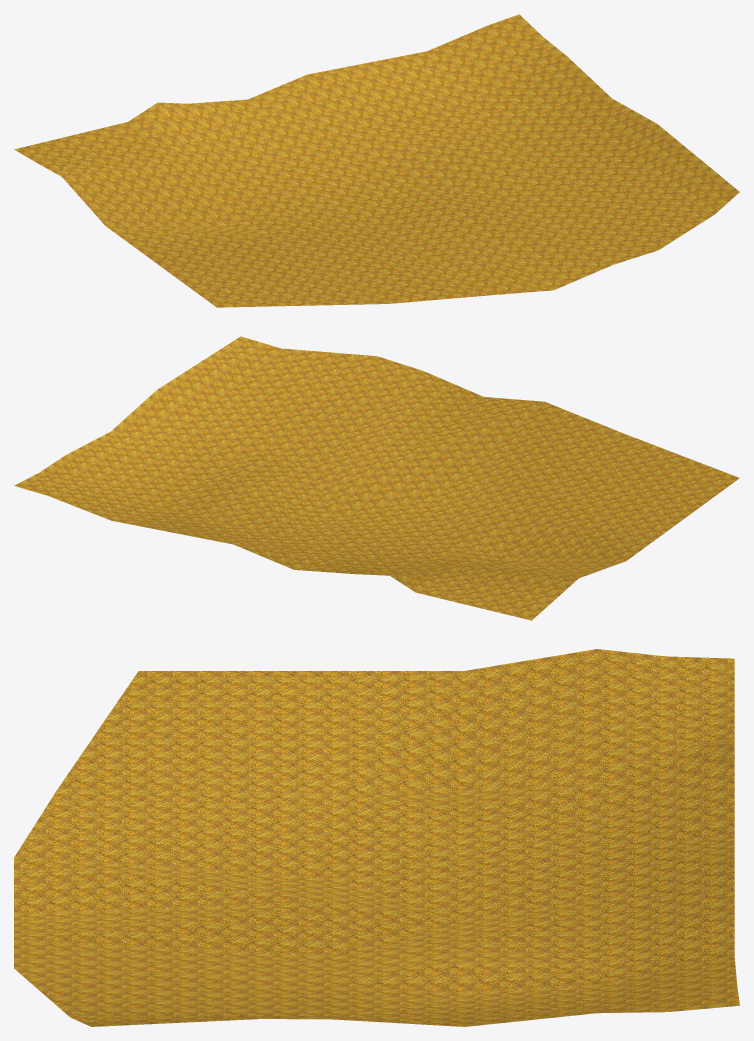
The model's file is jbfb_di.FBX.
The picture shows the model from 3 angles, top to bottom: view 1: azimuth 30°, elevation 25°; view 2: azimuth 150°, elevation 25°; view 3: azimuth 270°, elevation 25°; orthographic projection. The views are drawn at different scales.
Parts seen in each view (by area): view 1: jbfb_di; view 2: jbfb_di; view 3: jbfb_di.
Part boxes in pixels (x1,y1,x2,y2): jbfb_di: (14, 14, 739, 307); jbfb_di: (14, 336, 739, 620); jbfb_di: (14, 649, 739, 1026).
Bounding box in the file's own units: 4572 × 423 × 3870.
